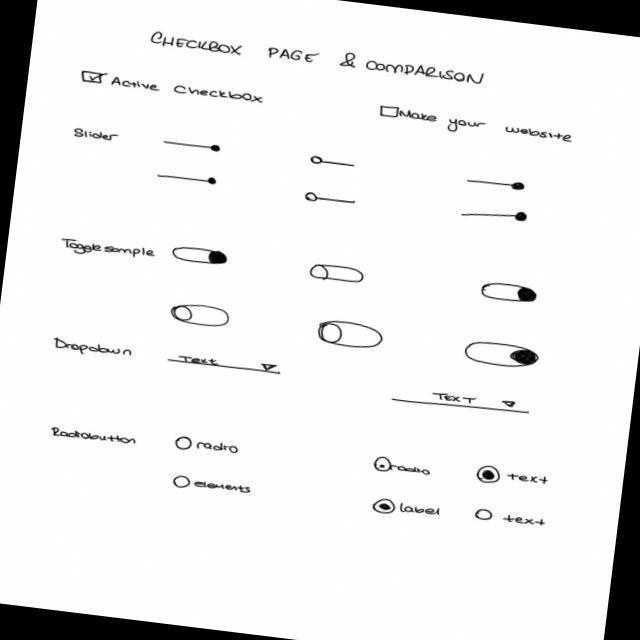checkbox: (376, 104, 578, 150), (80, 69, 267, 107)
label: (148, 30, 487, 88), (60, 236, 159, 264), (52, 337, 136, 363), (49, 425, 138, 448), (71, 127, 123, 146)
radio: (473, 464, 504, 492), (369, 495, 398, 523), (170, 473, 193, 499), (172, 434, 195, 459), (473, 506, 497, 529), (371, 456, 393, 480)
select: (391, 386, 534, 420), (165, 350, 285, 377)
slider: (457, 204, 530, 227), (155, 169, 220, 188), (465, 175, 529, 194), (162, 137, 223, 155), (304, 191, 360, 209), (309, 155, 357, 171)
toggle: (460, 338, 542, 373), (314, 317, 388, 353), (167, 300, 232, 331), (477, 279, 541, 307), (171, 244, 231, 269), (308, 262, 366, 286)
